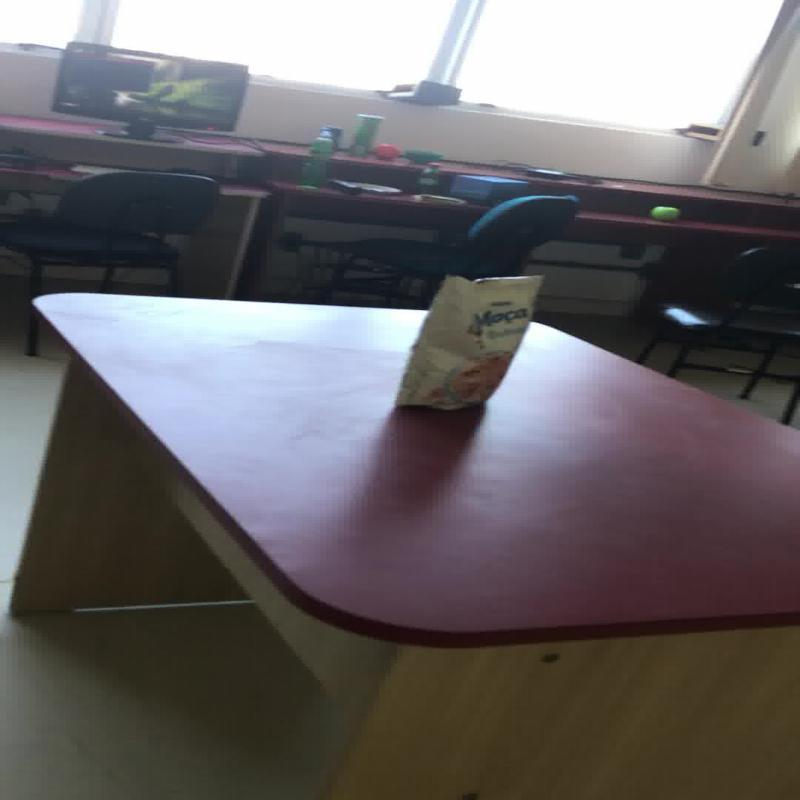corn flakes: (392, 272, 544, 411)
